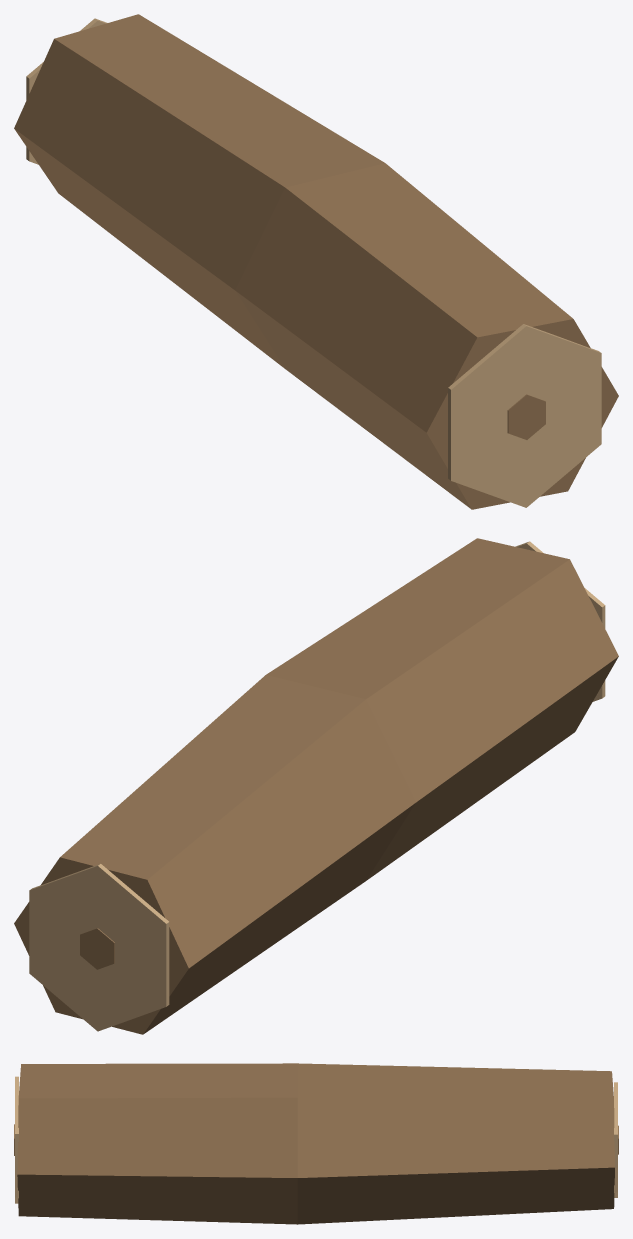
Rendered from item_000_log_s.glb.
The picture shows the model from 3 angles, top to bottom: view 1: azimuth 30°, elevation 25°; view 2: azimuth 150°, elevation 25°; view 3: azimuth 270°, elevation 25°; orthographic projection. The views are drawn at different scales.
Parts seen in each view (by area): view 1: item_000_log_s; view 2: item_000_log_s; view 3: item_000_log_s.
Boxes of the visible parts, bbox=[...] form: item_000_log_s: bbox=[14, 14, 618, 509]; item_000_log_s: bbox=[14, 538, 618, 1034]; item_000_log_s: bbox=[14, 1063, 618, 1224].
Size of the model in its own units: 0.1961 by 0.1656 by 0.714.
